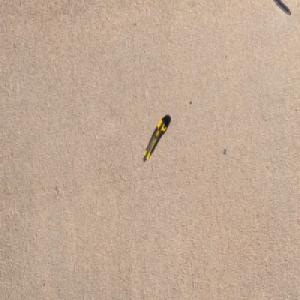Cutter: (142, 115, 169, 163)
